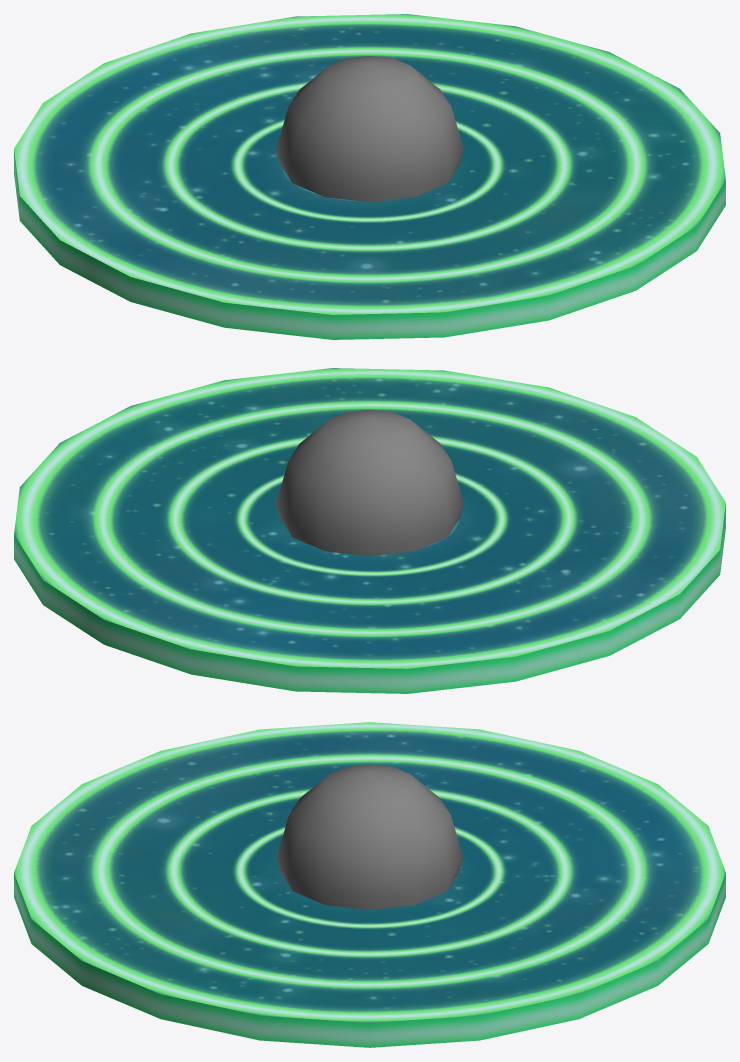
File: BlackHole_Waypoint.fbx
The picture shows the model from 3 angles, top to bottom: view 1: azimuth 30°, elevation 25°; view 2: azimuth 150°, elevation 25°; view 3: azimuth 270°, elevation 25°; orthographic projection.
Parts seen in each view (by area): view 1: BlackHole_Waypoint, BlackHole_Waypoint_Core; view 2: BlackHole_Waypoint, BlackHole_Waypoint_Core; view 3: BlackHole_Waypoint, BlackHole_Waypoint_Core.
Part boxes in pixels (x1=…): BlackHole_Waypoint: x1=14, y1=14, x2=725, y2=339; BlackHole_Waypoint_Core: x1=276, y1=56, x2=463, y2=202; BlackHole_Waypoint: x1=14, y1=368, x2=725, y2=693; BlackHole_Waypoint_Core: x1=276, y1=410, x2=463, y2=556; BlackHole_Waypoint: x1=14, y1=722, x2=725, y2=1047; BlackHole_Waypoint_Core: x1=276, y1=764, x2=463, y2=909.
Size of the model in its own units: 62.15 by 12.25 by 62.15.
Materials: 2 (1 with a texture image).
